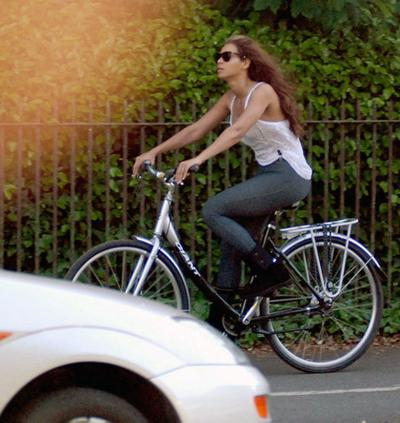person: (132, 36, 315, 334)
